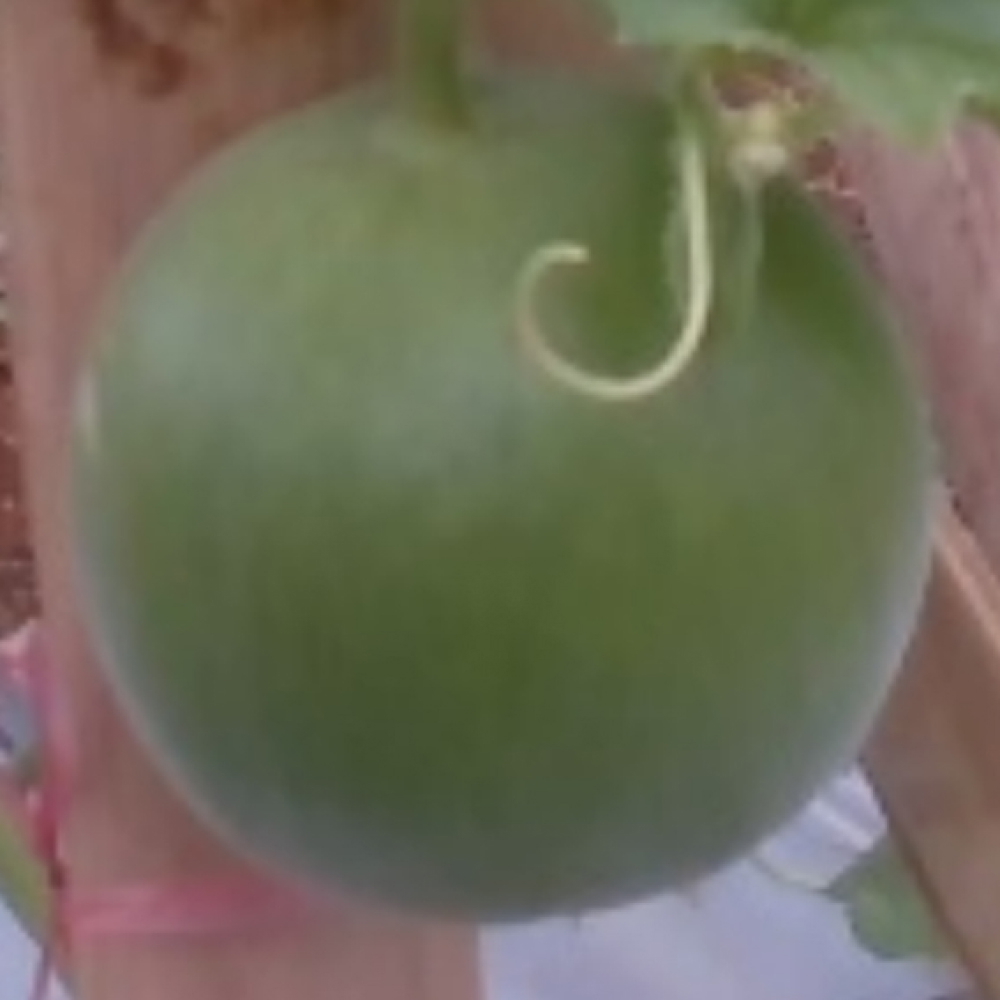melon: (62, 72, 946, 931)
